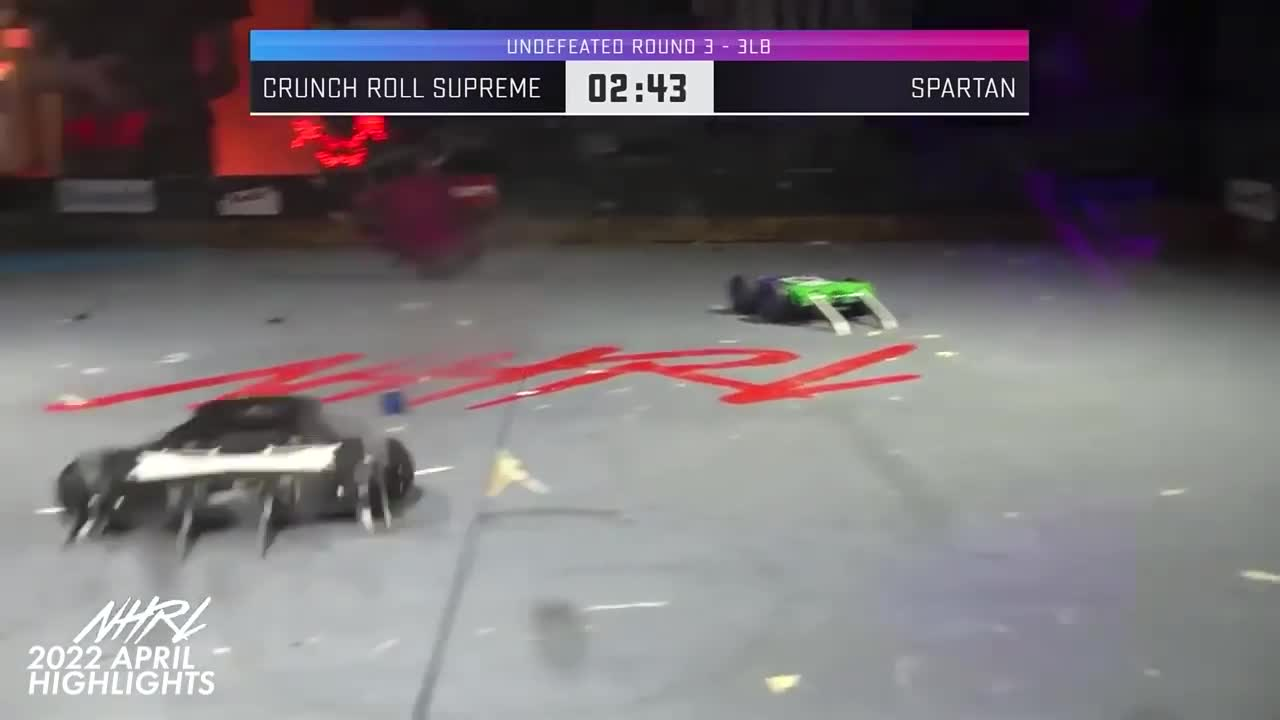combatbot: (59, 386, 421, 562), (355, 160, 507, 282)
minibot: (719, 272, 900, 337)
